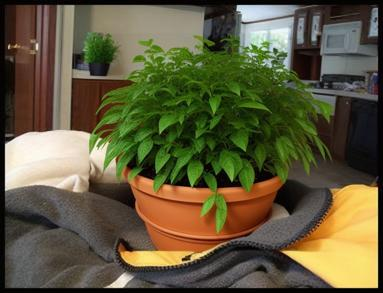pottedplant: (89, 34, 333, 250)
